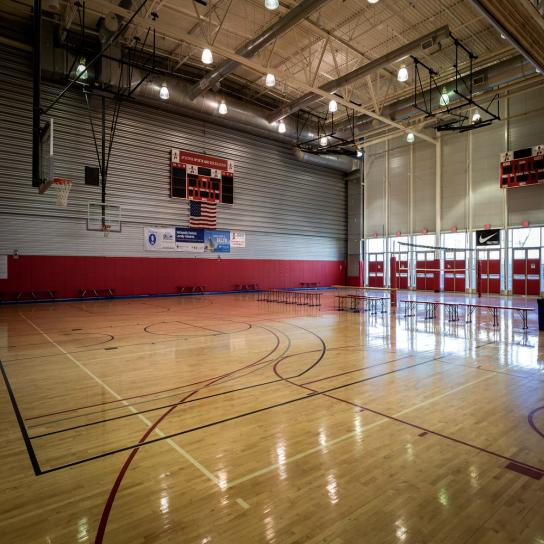basketball-hoop: (53, 176, 73, 208)
